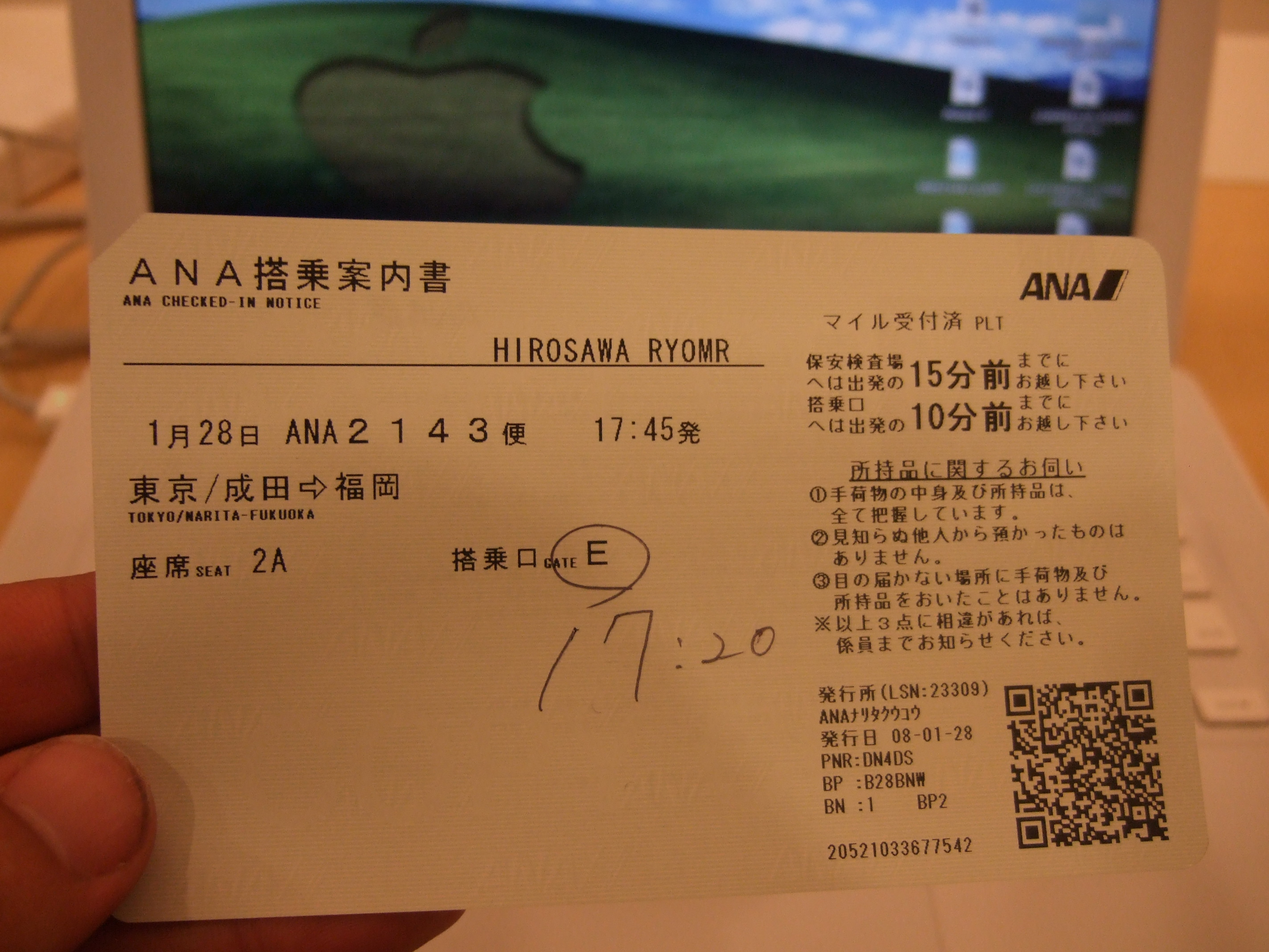QR-CODE: (1004, 680, 1169, 848)
